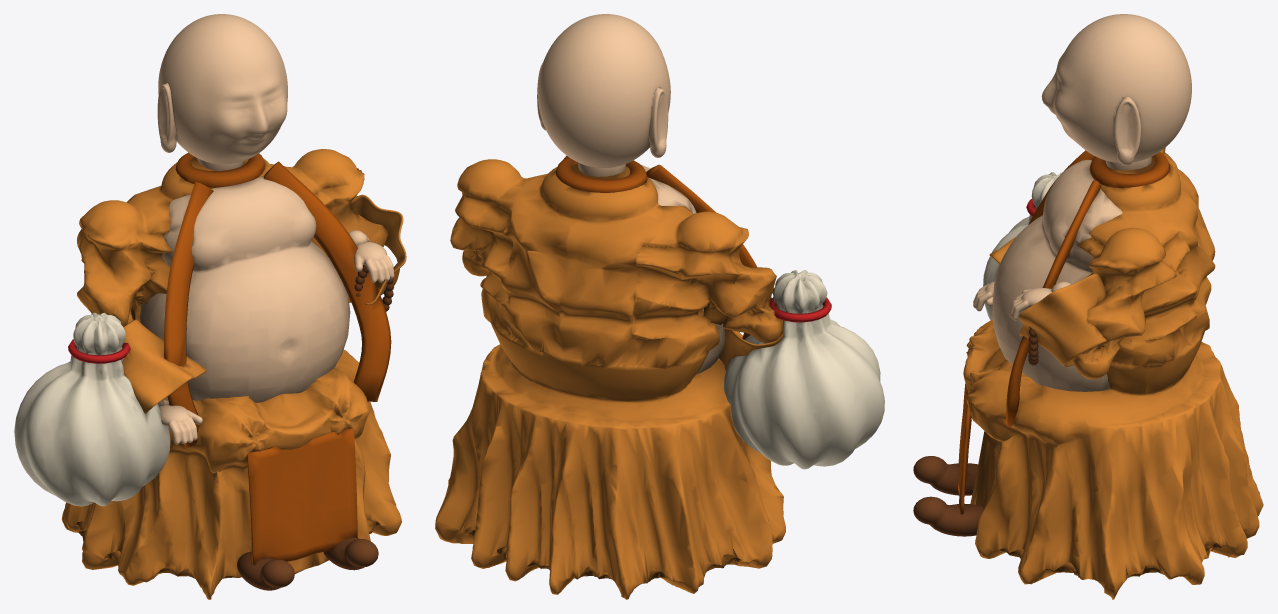
The model's file is mile.glb.
3 renders of one model, left to right at view 1: azimuth 30°, elevation 25°; view 2: azimuth 150°, elevation 25°; view 3: azimuth 270°, elevation 25°, orthographic. The views are drawn at different scales.
Visible parts, largest first — view 1: ML_Robe, ML_Belly, ML_SackMesh, ML_HeadMesh, ML_Apron, ML_RobeEdge, ML_SleeveL, ML_Boots, ML_SleeveR, ML_Collar, ML_HandL, ML_HandR (+2 smaller); view 2: ML_Robe, ML_SackMesh, ML_HeadMesh, ML_Collar, ML_Ears, ML_Belly, ML_RobeEdge, ML_SleeveL, ML_SackTie; view 3: ML_Robe, ML_HeadMesh, ML_Belly, ML_SleeveR, ML_Boots, ML_RobeEdge, ML_Collar, ML_Ears, ML_SackMesh, ML_Apron, ML_HandR.
Part boxes in pixels (<box>): ML_Robe: <box>61,149,401,599</box>; ML_Belly: <box>140,176,350,402</box>; ML_SackMesh: <box>14,312,170,506</box>; ML_HeadMesh: <box>158,14,287,164</box>; ML_Apron: <box>247,428,357,564</box>; ML_RobeEdge: <box>164,161,391,448</box>; ML_SleeveL: <box>121,319,206,413</box>; ML_Boots: <box>237,537,378,590</box>; ML_SleeveR: <box>348,194,406,305</box>; ML_Collar: <box>175,152,265,187</box>; ML_HandL: <box>159,404,202,444</box>; ML_HandR: <box>354,242,394,282</box>; ML_Robe: <box>435,159,785,599</box>; ML_SackMesh: <box>724,270,884,469</box>; ML_HeadMesh: <box>537,14,670,167</box>; ML_Collar: <box>556,157,647,192</box>; ML_Ears: <box>537,63,668,157</box>; ML_Belly: <box>640,164,724,374</box>; ML_RobeEdge: <box>563,155,771,339</box>; ML_SleeveL: <box>719,288,783,370</box>; ML_SackTie: <box>769,297,831,322</box>; ML_Robe: <box>963,147,1263,599</box>; ML_HeadMesh: <box>1041,14,1191,162</box>; ML_Belly: <box>992,159,1122,391</box>; ML_SleeveR: <box>1018,273,1119,366</box>; ML_Boots: <box>913,456,983,536</box>; ML_RobeEdge: <box>1005,150,1101,427</box>; ML_Collar: <box>1089,152,1169,188</box>; ML_Ears: <box>1114,97,1140,165</box>; ML_SackMesh: <box>983,172,1062,320</box>; ML_Apron: <box>958,383,971,514</box>; ML_HandR: <box>1009,288,1051,320</box>.
Size of the model in its own units: 1.48 by 1.88 by 1.16.
